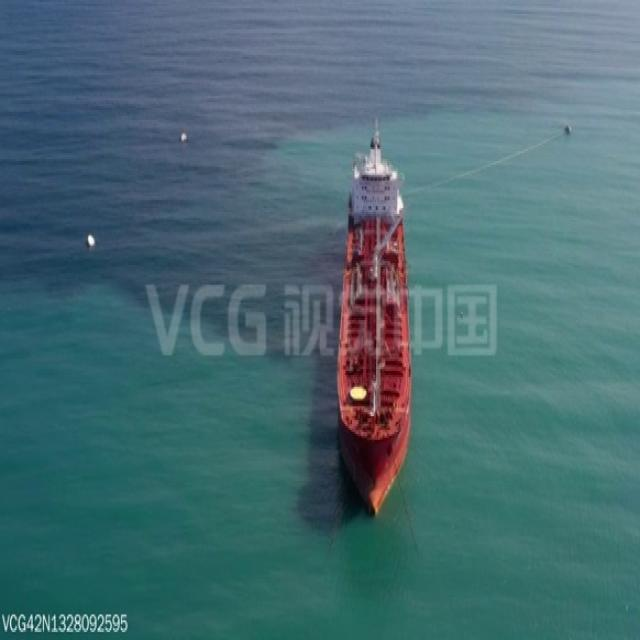cargoship: (337, 116, 413, 514)
